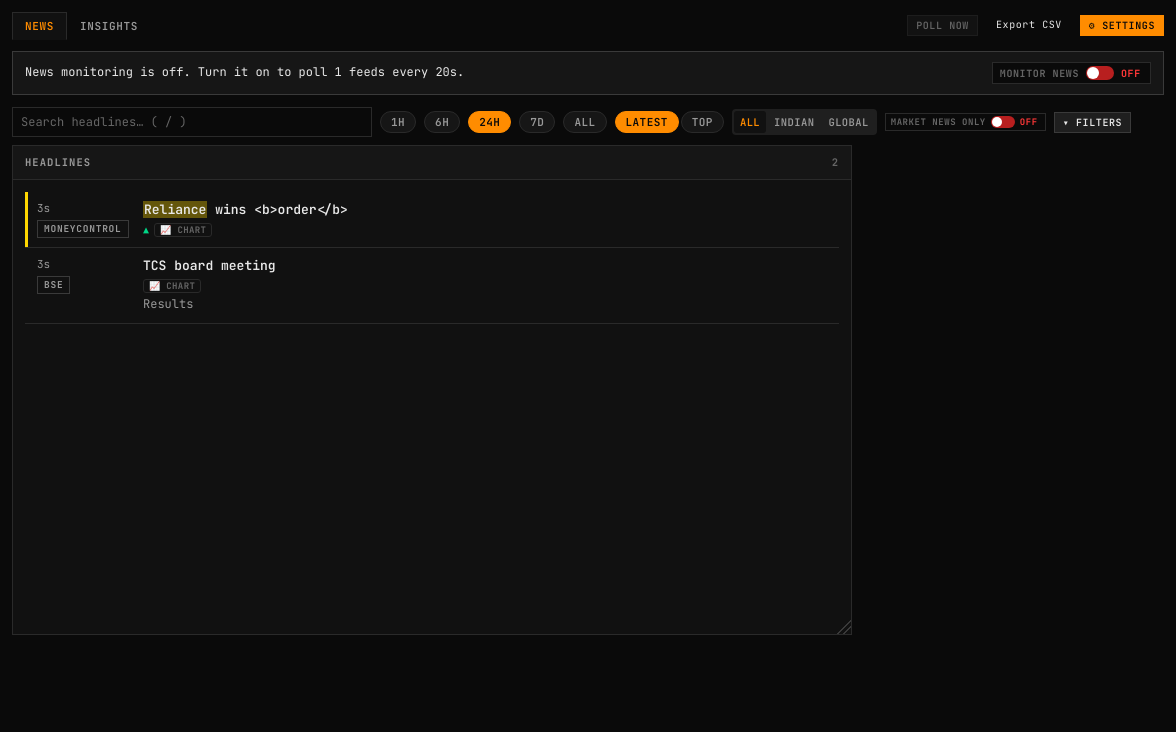
News page: fixes and trader shortcuts › source chip counts leave out muted headlines, like the list does
Expected: the link "TCS board meeting" is shown, [143, 257, 276, 274]
Click the button with test id "news-filters-btn" at [1092, 122], box [1054, 112, 1131, 132]
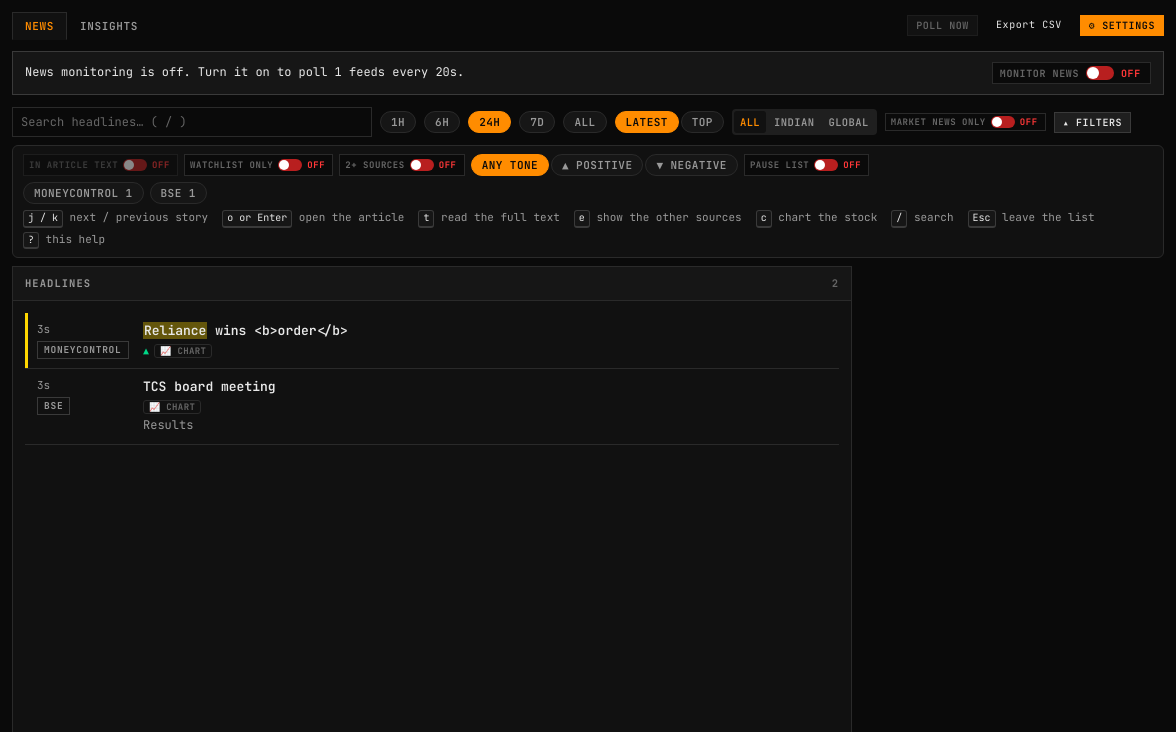
Now the button "Moneycontrol 1" is shown, box [23, 182, 144, 204]
